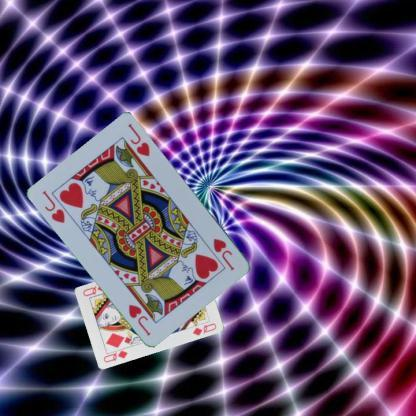Jh: (40, 188, 75, 225), (211, 236, 236, 272)
Qd: (101, 344, 129, 364)
